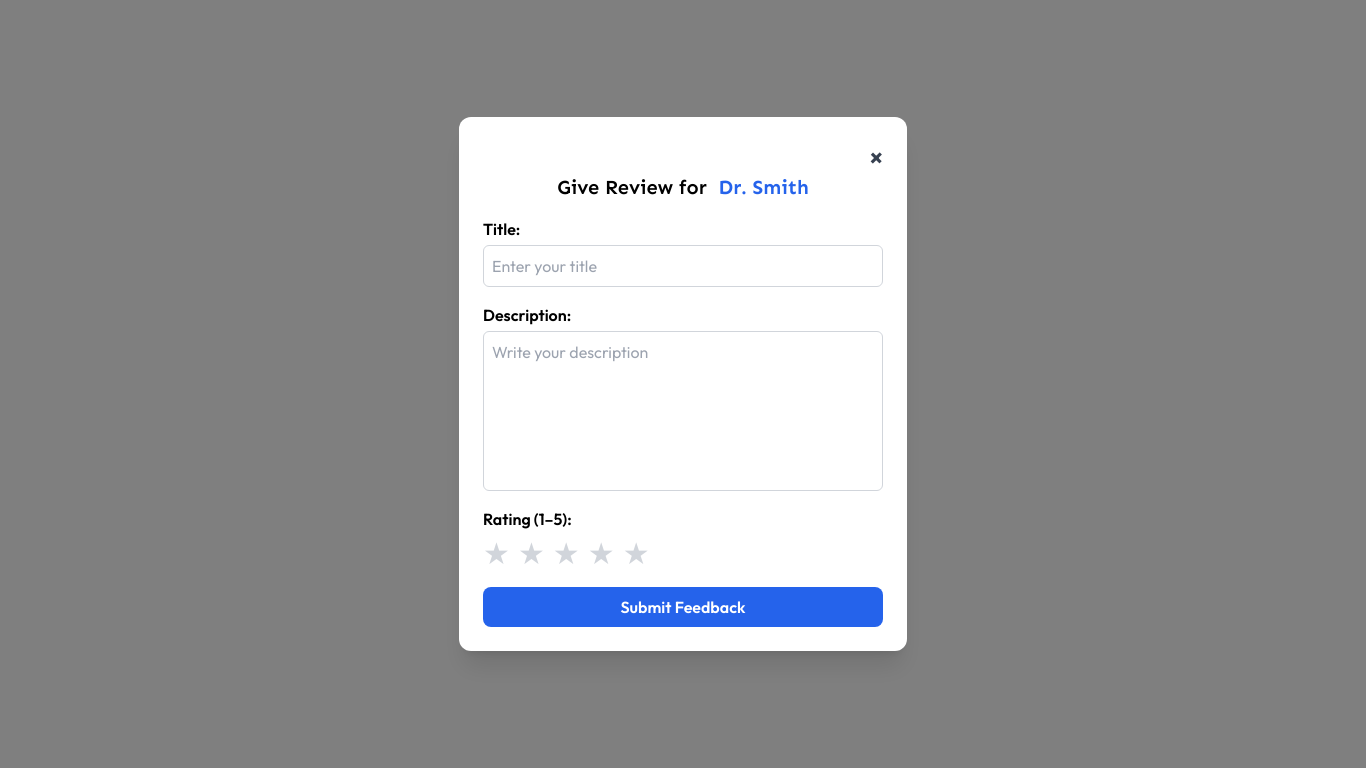
ReviewForm › shows warning when submitting empty form
Click the button "Submit Feedback": (683, 607) [483, 587, 883, 627]
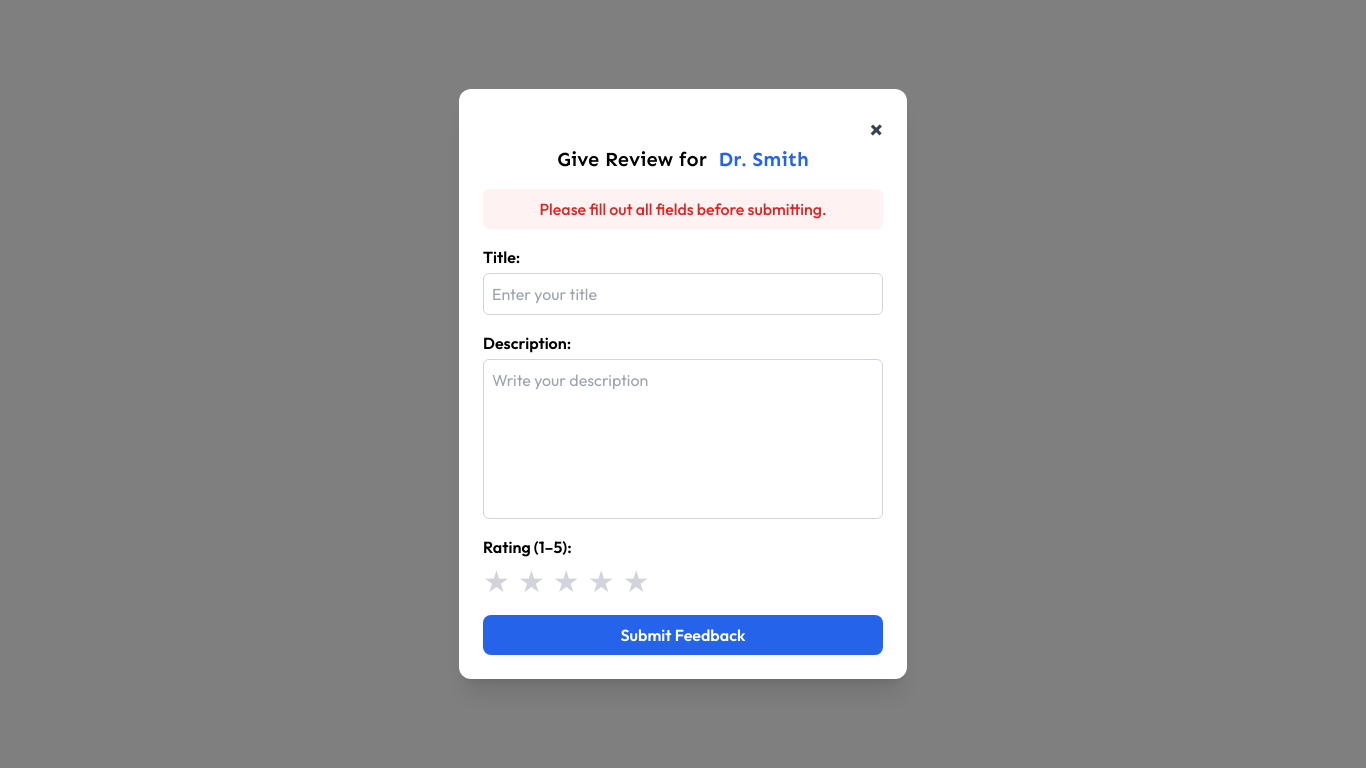
Expected: the text "Please fill out all fields before submitting." is shown, [483, 189, 883, 229]
